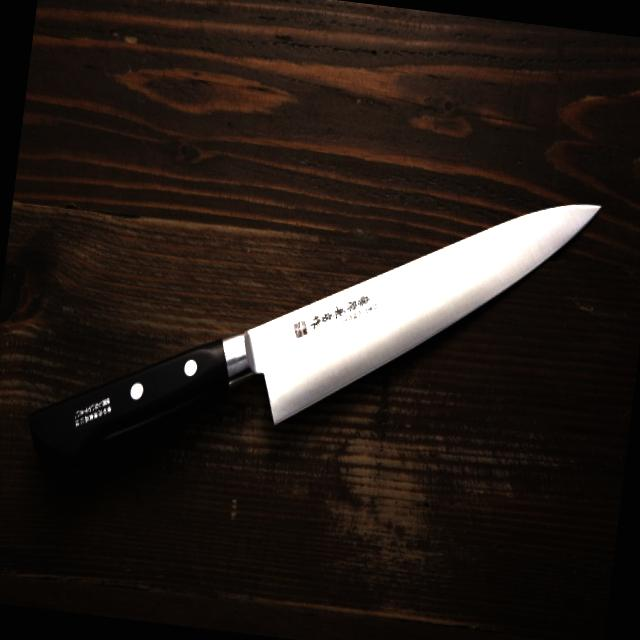knife: (27, 131, 605, 523)
